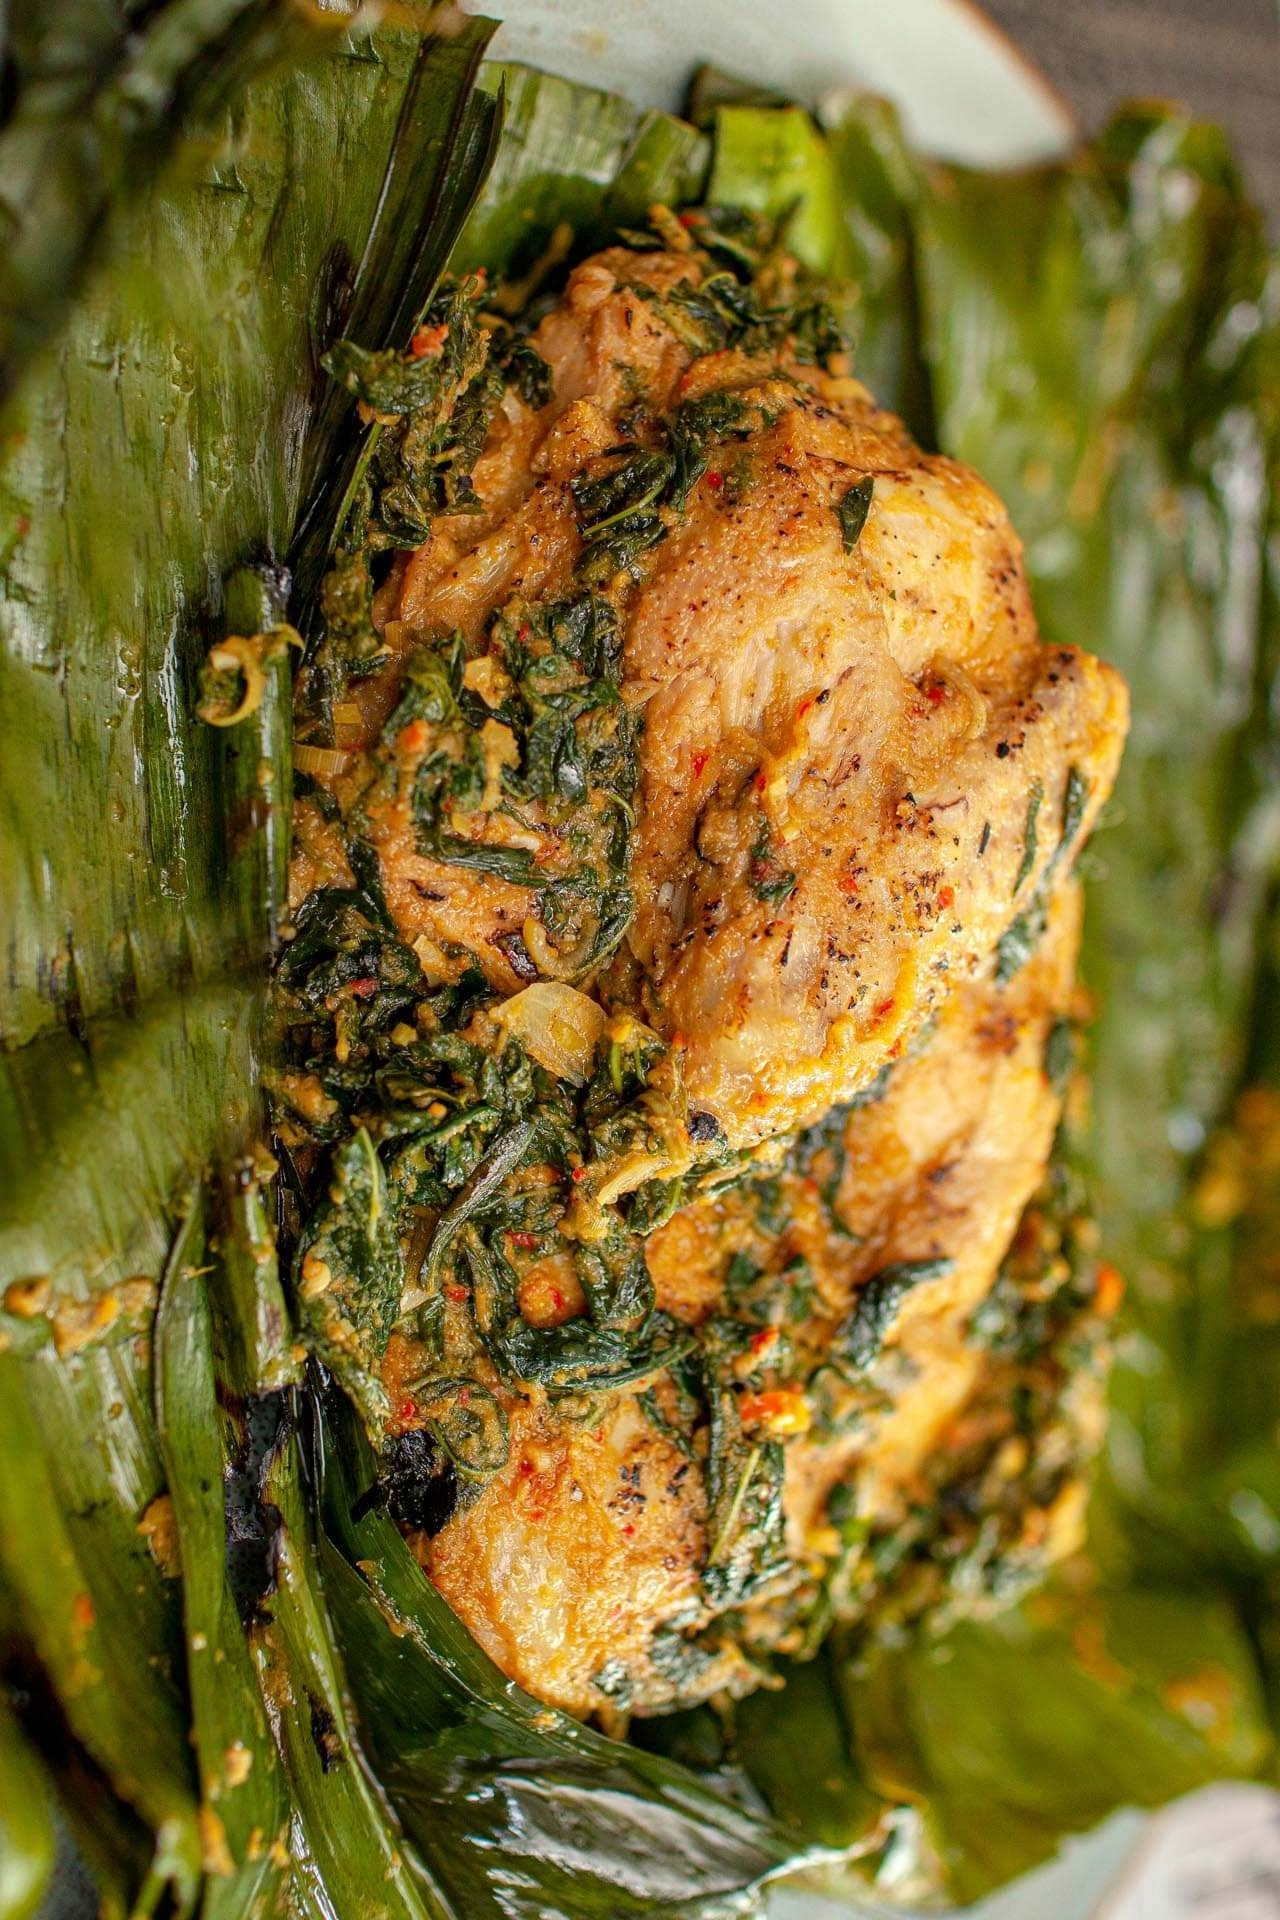ayam_betutu: (299, 236, 1131, 1710)
